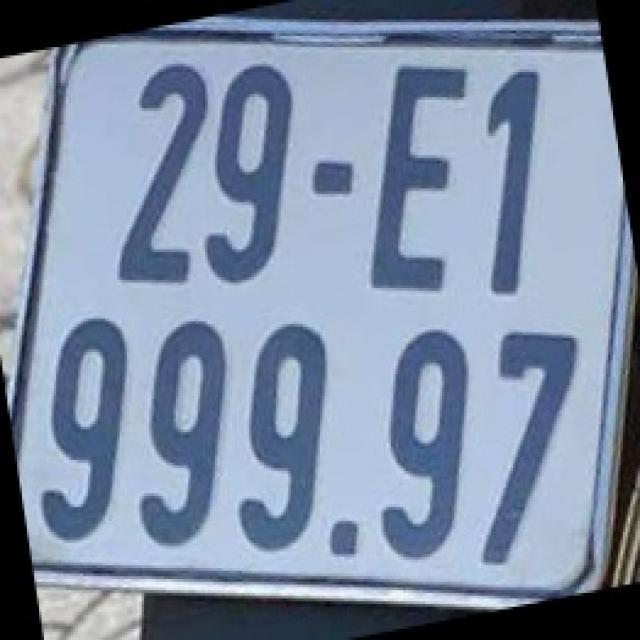1: (476, 58, 552, 299)
2: (110, 55, 206, 288)
7: (476, 318, 582, 568)
9: (372, 318, 472, 560), (232, 313, 332, 554), (134, 313, 228, 549), (202, 56, 298, 286), (36, 310, 130, 543)
E: (369, 52, 469, 296)
